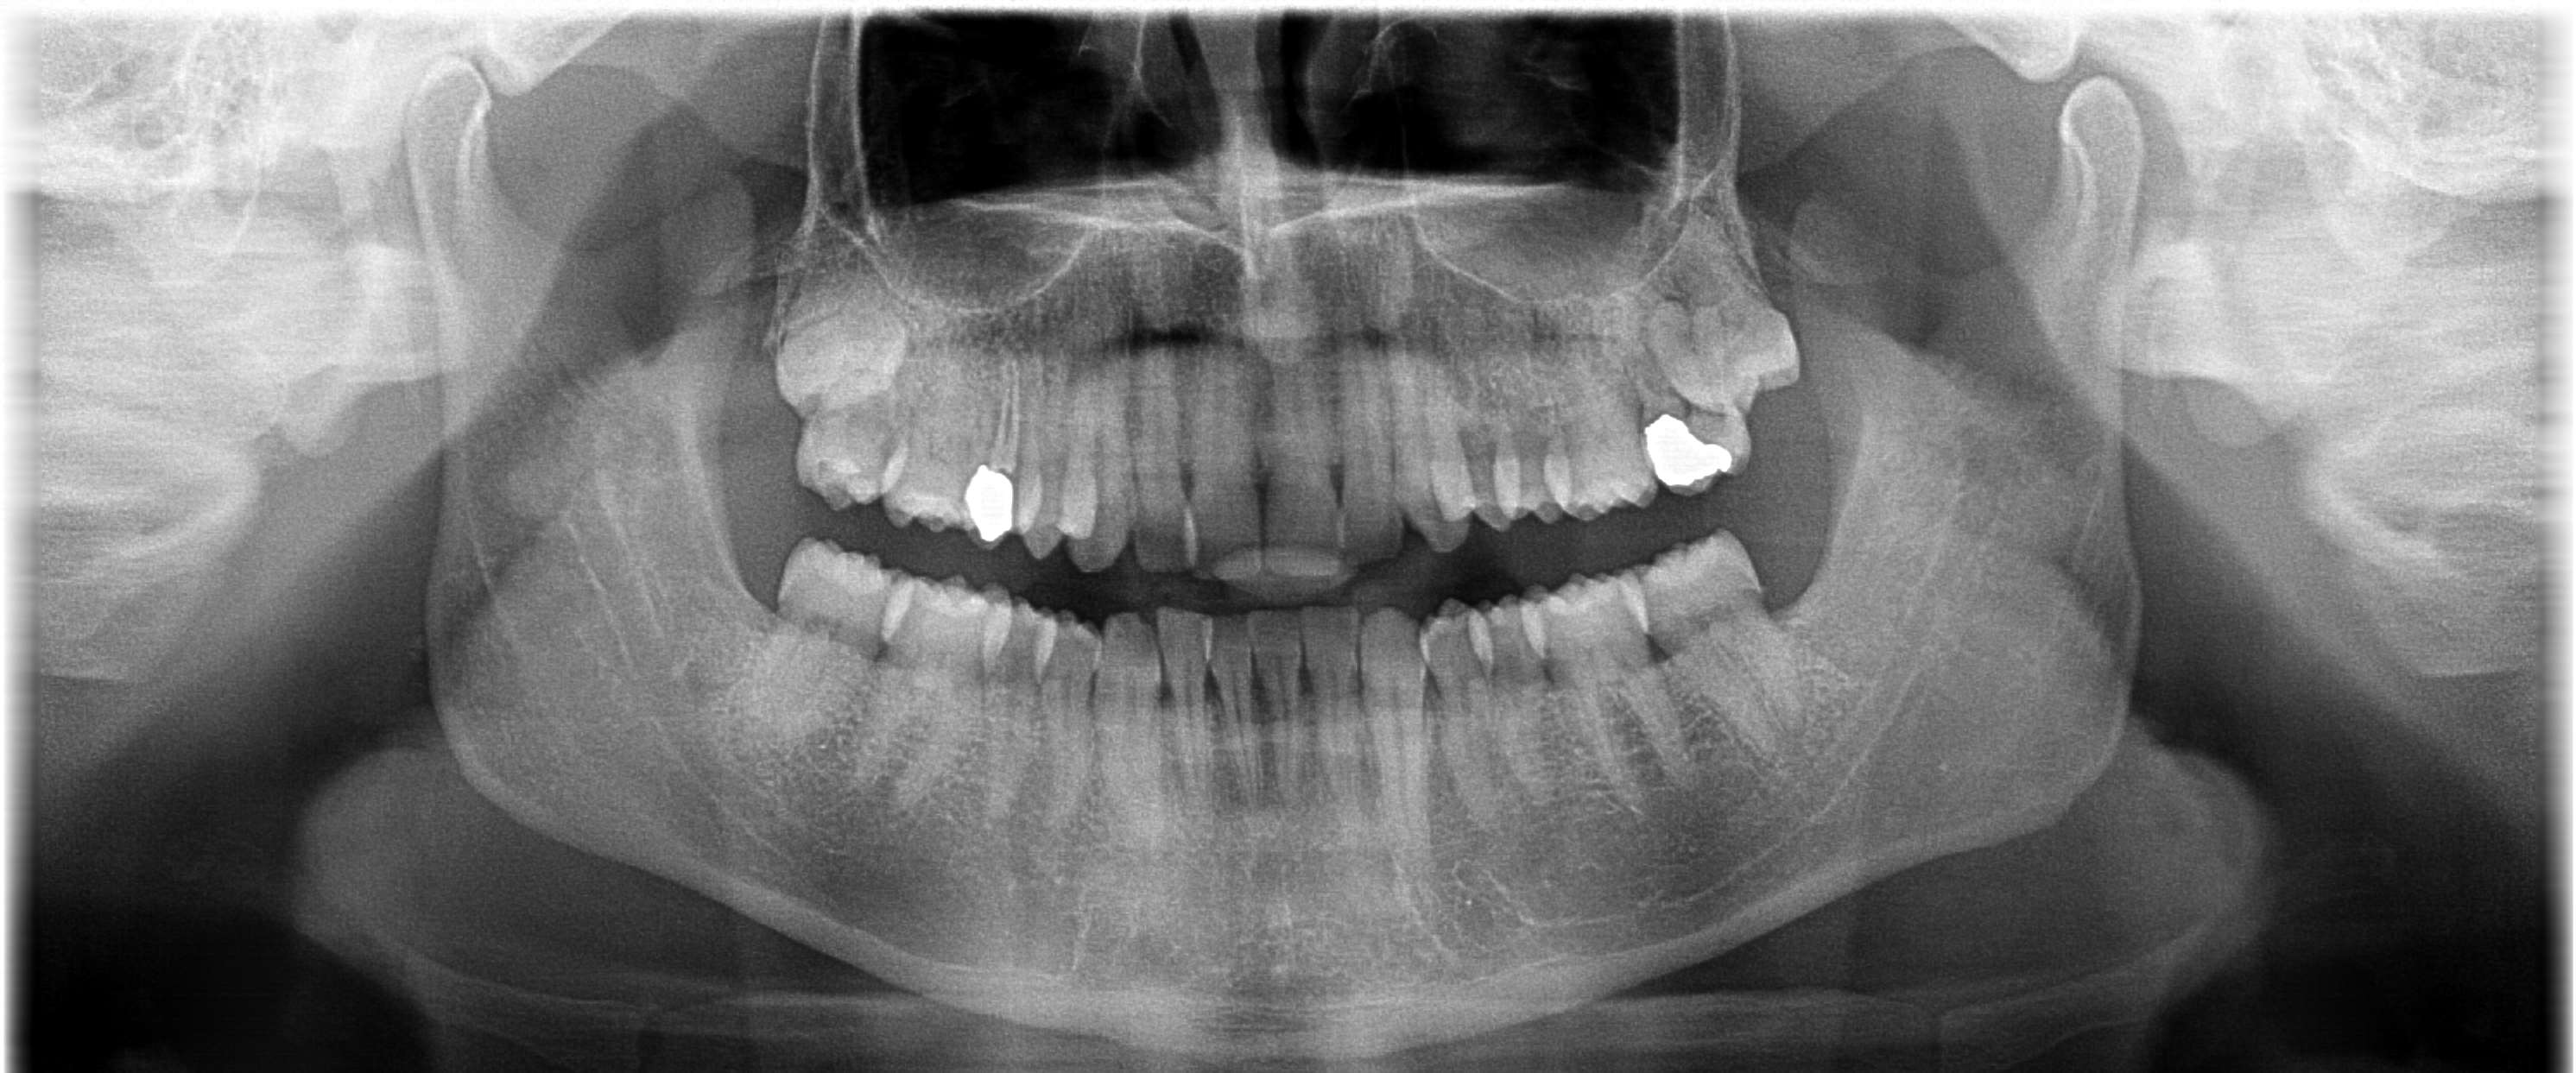cordal: (1646, 220, 1832, 419), (747, 276, 931, 414)
diastema: (876, 590, 1124, 703), (999, 465, 1217, 577), (1385, 447, 1625, 534), (1400, 598, 1589, 679)
